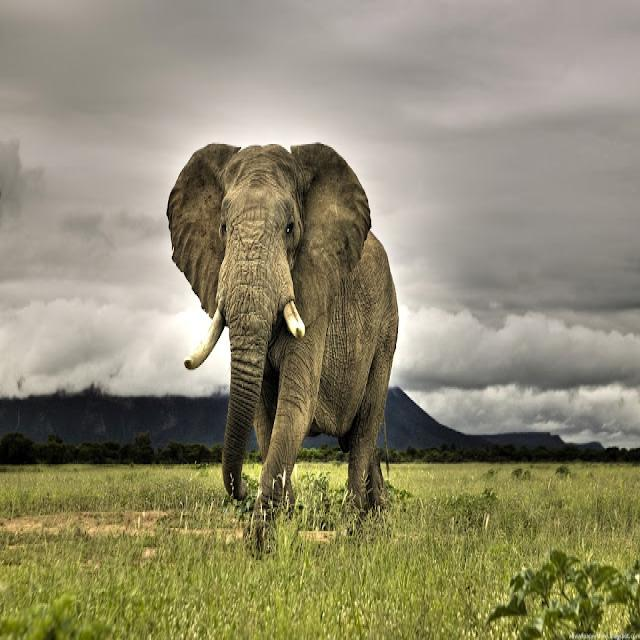Elephant: (152, 104, 428, 572)
